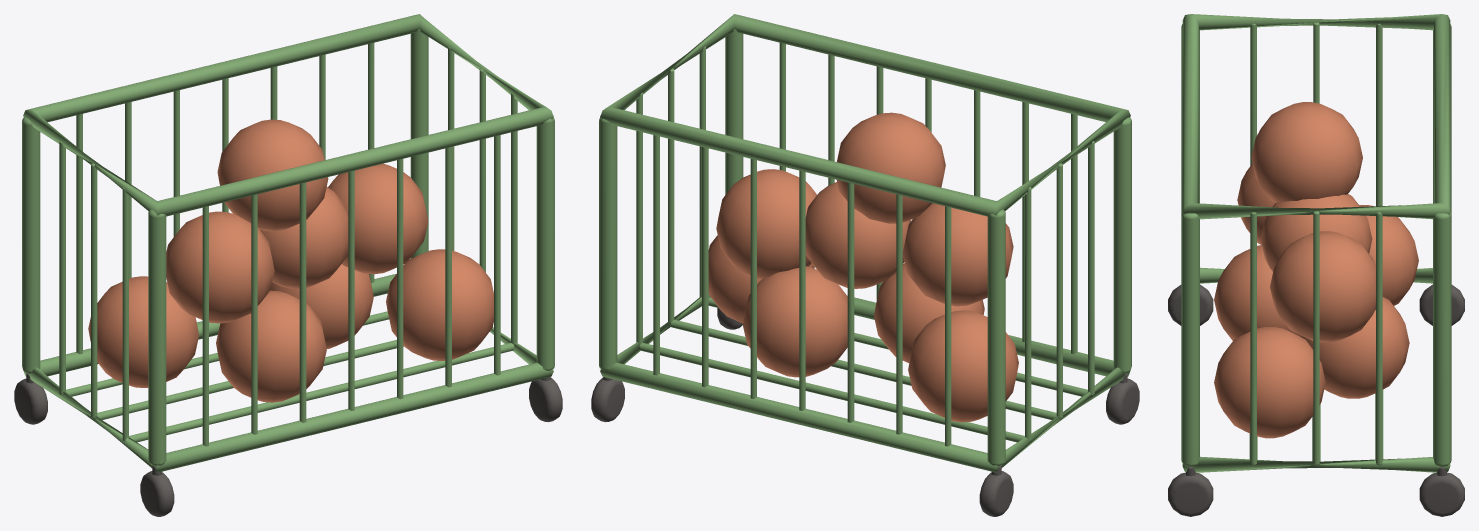
File: ball_cart.glb
3 views of the same model, side by side, from view 1: azimuth 30°, elevation 25°; view 2: azimuth 150°, elevation 25°; view 3: azimuth 270°, elevation 25° (orthographic).
Visible parts, largest first — view 1: ball_cart_mesh; view 2: ball_cart_mesh; view 3: ball_cart_mesh.
Boxes of the visible parts, left/top/right/bottom form: ball_cart_mesh: left=14, top=14, right=562, bottom=516; ball_cart_mesh: left=591, top=14, right=1139, bottom=516; ball_cart_mesh: left=1168, top=14, right=1464, bottom=516.
Bounding box in the file's own units: 1 × 0.74 × 0.6375.
